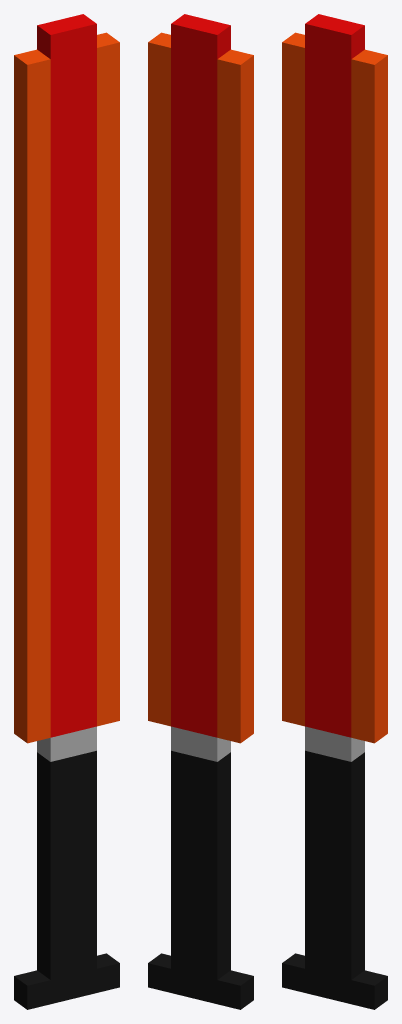
Rendered from LazerSword.obj.
3 views of the same model, side by side, from view 1: azimuth 30°, elevation 25°; view 2: azimuth 150°, elevation 25°; view 3: azimuth 330°, elevation 25° (orthographic).
Parts seen in each view (by area): view 1: LazerSword; view 2: LazerSword; view 3: LazerSword.
Boxes of the visible parts, x1,y1,x2,y2 form: LazerSword: (14, 14, 119, 1009); LazerSword: (148, 14, 253, 1009); LazerSword: (282, 14, 387, 1009).
Size of the model in its own units: 4 by 40 by 1.
1 material, 1 textured.
